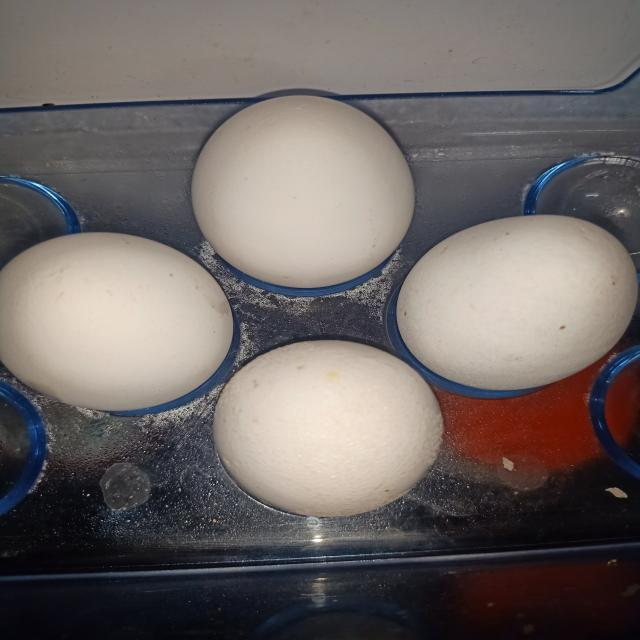Egg: (191, 95, 415, 288), (397, 215, 639, 391), (0, 232, 232, 411), (213, 340, 443, 517)
